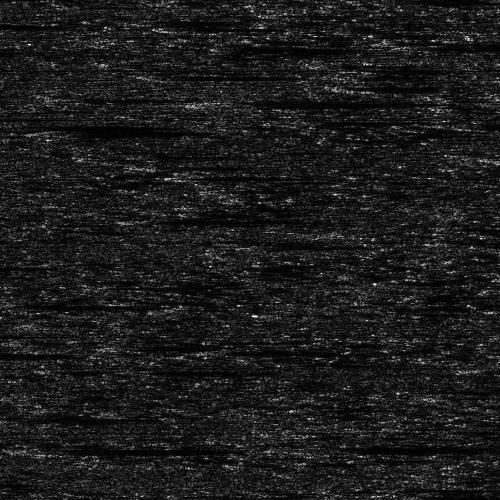object: (163, 342, 246, 359), (299, 81, 392, 90), (98, 161, 203, 168), (0, 116, 41, 133), (385, 39, 448, 50), (456, 151, 500, 162), (92, 216, 145, 223), (147, 172, 220, 177), (217, 241, 290, 246), (0, 299, 31, 308), (32, 128, 85, 133), (417, 120, 470, 125), (265, 444, 296, 451), (130, 73, 171, 78), (0, 414, 25, 421), (108, 367, 139, 372), (86, 343, 117, 348), (162, 25, 193, 28), (11, 448, 42, 451), (146, 17, 177, 20), (384, 486, 415, 489), (211, 99, 242, 102), (477, 93, 500, 96)
shadow: (205, 342, 394, 359), (0, 116, 172, 133), (5, 299, 221, 308), (119, 216, 310, 223), (281, 444, 439, 451), (4, 414, 145, 421), (417, 39, 500, 50), (346, 81, 432, 90), (59, 128, 210, 133), (0, 15, 39, 32), (227, 99, 429, 102), (254, 241, 375, 246), (151, 73, 269, 78), (184, 172, 302, 177), (124, 367, 234, 372), (151, 161, 228, 168), (102, 343, 174, 348), (400, 486, 500, 489), (443, 120, 500, 125), (178, 25, 257, 28), (162, 17, 240, 20), (26, 448, 62, 451), (0, 351, 32, 354), (0, 262, 10, 269)
